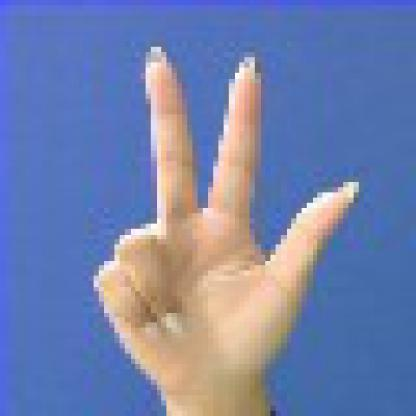eight: (69, 33, 380, 411)
